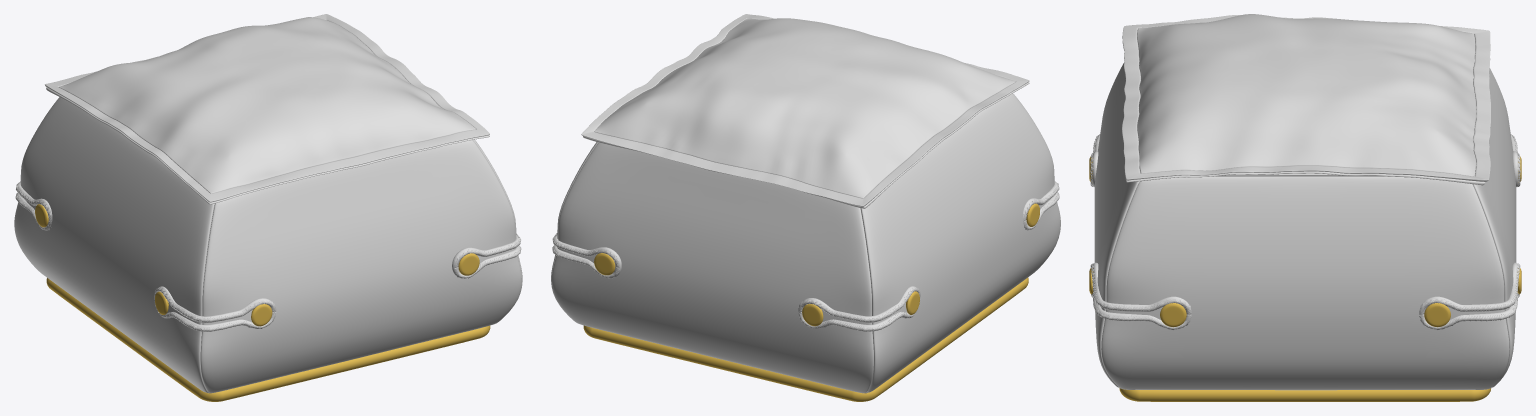
The model's file is SLN_GRAND_THEORY.glb.
3 views of the same model, side by side, from view 1: azimuth 30°, elevation 25°; view 2: azimuth 150°, elevation 25°; view 3: azimuth 270°, elevation 25° (orthographic). The views are drawn at different scales.
Parts seen in each view (by area): view 1: GRAND_THEORY; view 2: GRAND_THEORY; view 3: GRAND_THEORY.
Boxes of the visible parts, box(x1,y1,x2,y2) form: GRAND_THEORY: box(14, 14, 522, 401); GRAND_THEORY: box(551, 14, 1060, 401); GRAND_THEORY: box(1089, 14, 1521, 401).
Bounding box in the file's own units: 0.8053 × 0.5546 × 0.8101.
